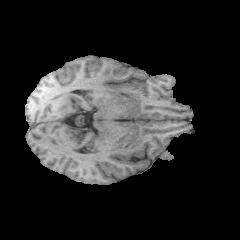glioma: (103, 57, 150, 102)
